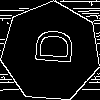D: (26, 26, 73, 66)
